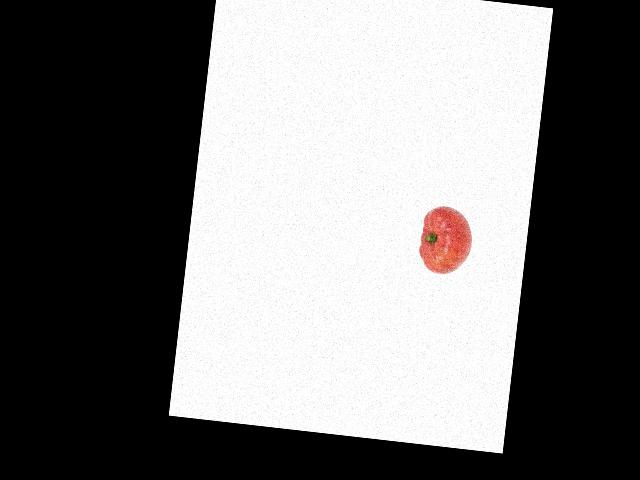tomato: (418, 204, 475, 277)
